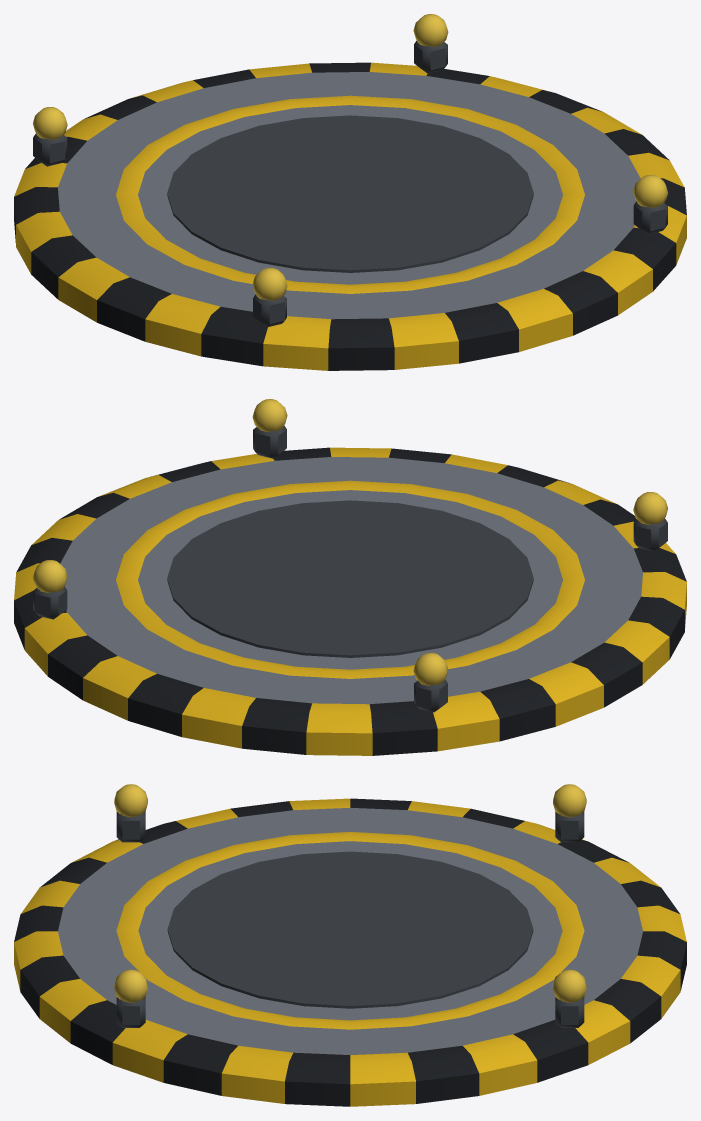
File: launchpad.glb
3 views of the same model, one above another, from view 1: azimuth 30°, elevation 25°; view 2: azimuth 150°, elevation 25°; view 3: azimuth 270°, elevation 25° (orthographic).
Visible parts, largest first — view 1: Body, Lights_glow; view 2: Body, Lights_glow; view 3: Body, Lights_glow.
Part boxes in pixels (box(x1,y1,x2,y2)): Body: box(14, 40, 686, 370); Lights_glow: box(33, 14, 667, 300); Body: box(14, 425, 686, 755); Lights_glow: box(33, 399, 667, 685); Body: box(14, 798, 686, 1106); Lights_glow: box(114, 784, 586, 1002).
Bounding box in the file's own units: 4.6 × 0.65 × 4.6.
